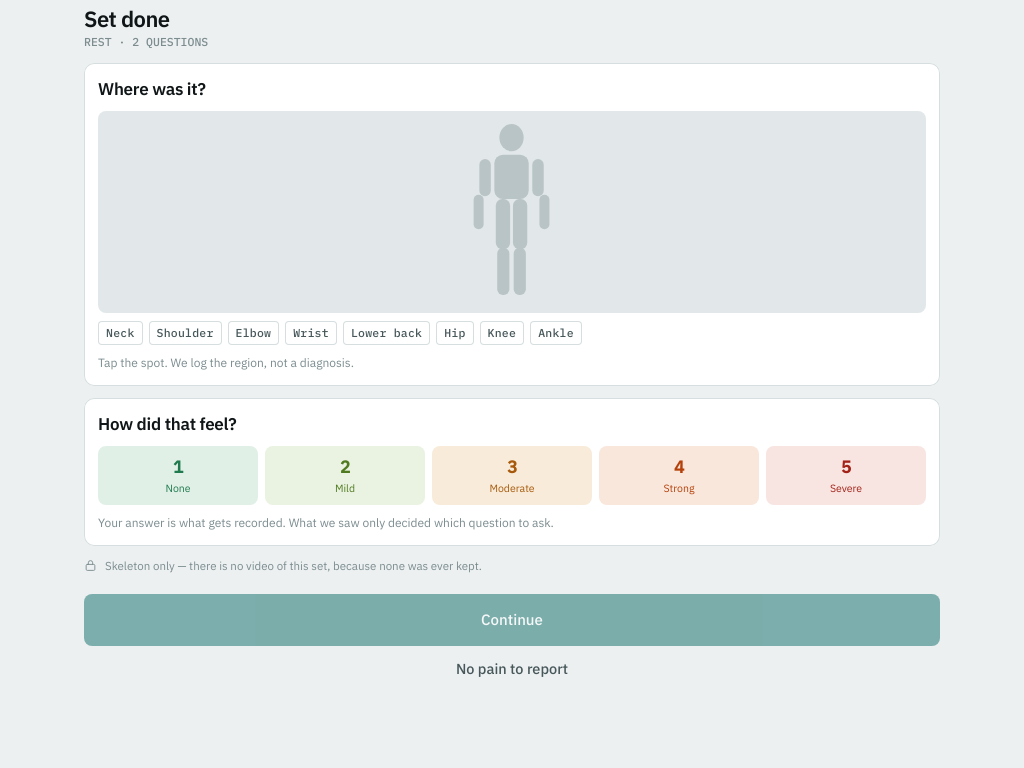
Test: PainCheckInScreen (B2/B6) › asks about the region the patient picked, by name
The width and height of the screenshot is (1024, 768).
Expected: the heading "How did that feel?" is shown, [98, 413, 236, 435]
Click the button "Lower back" at (387, 333), box [343, 321, 430, 345]
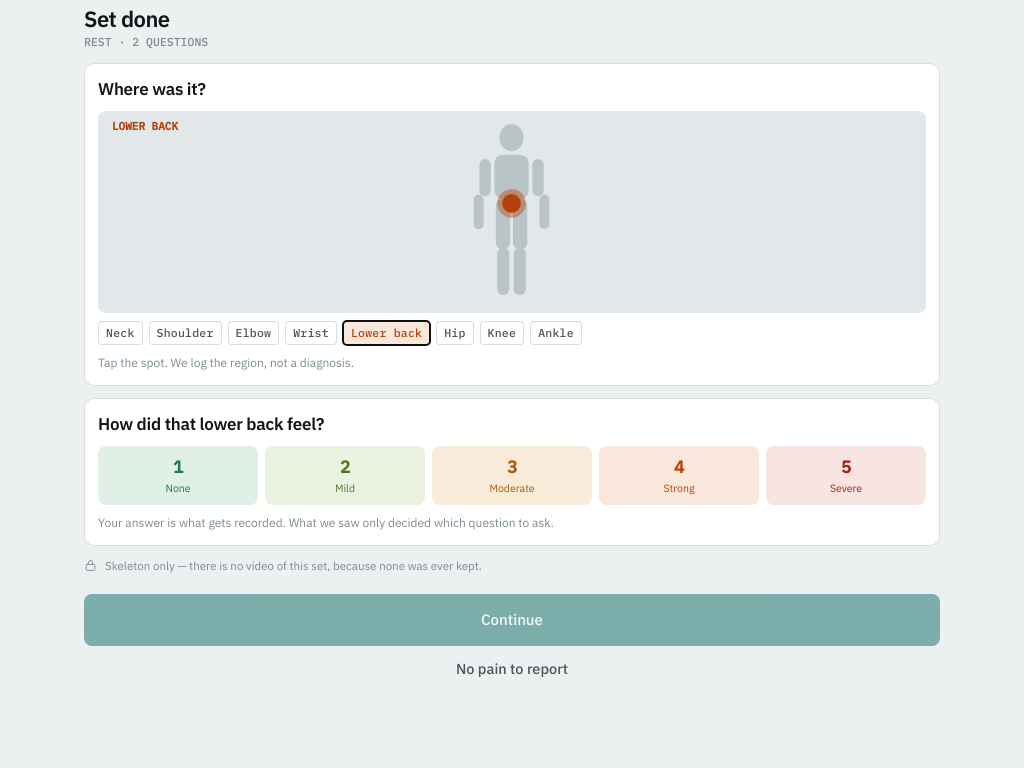
Expected: the heading "How did that lower back feel?" is shown, [98, 413, 324, 435]
